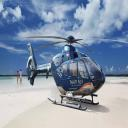helicopter: (23, 24, 113, 117)
